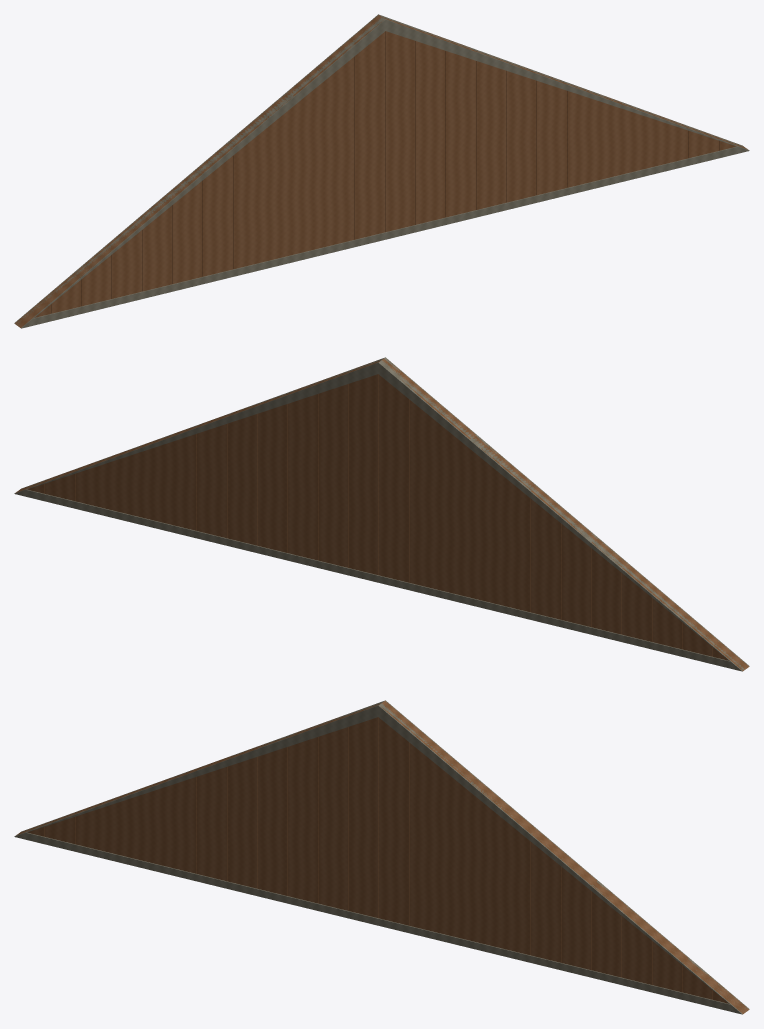
File: MRP_Gable_Wood_6m.fbx
The picture shows the model from 3 angles, top to bottom: view 1: azimuth 30°, elevation 25°; view 2: azimuth 150°, elevation 25°; view 3: azimuth 330°, elevation 25°; orthographic projection.
Visible parts, largest first — view 1: Body; view 2: Body; view 3: Body.
Boxes of the visible parts, box(x1,y1,x2,y2) form: Body: box(14, 14, 749, 328); Body: box(14, 357, 749, 671); Body: box(14, 700, 749, 1014).
Bounding box in the file's own units: 6 × 1.73 × 0.104.
